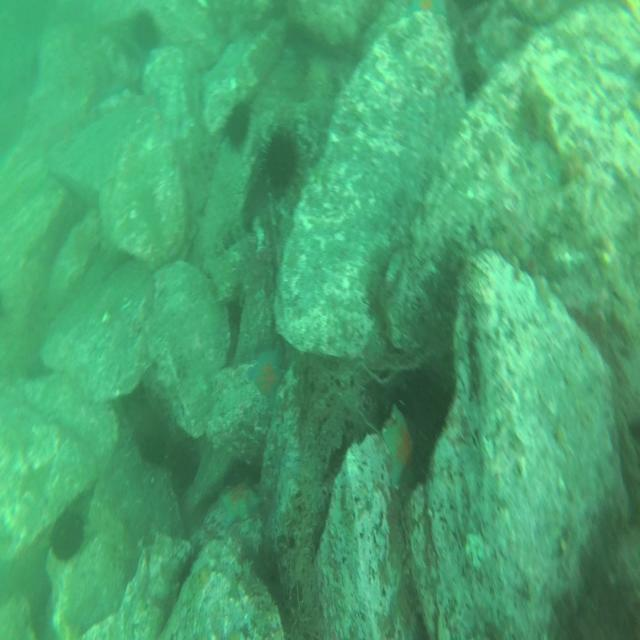echinus: (259, 116, 302, 202), (49, 510, 87, 562), (222, 94, 252, 154), (128, 12, 160, 55)
starfish: (378, 406, 422, 498), (214, 473, 265, 529), (251, 341, 291, 410), (398, 0, 450, 26)
